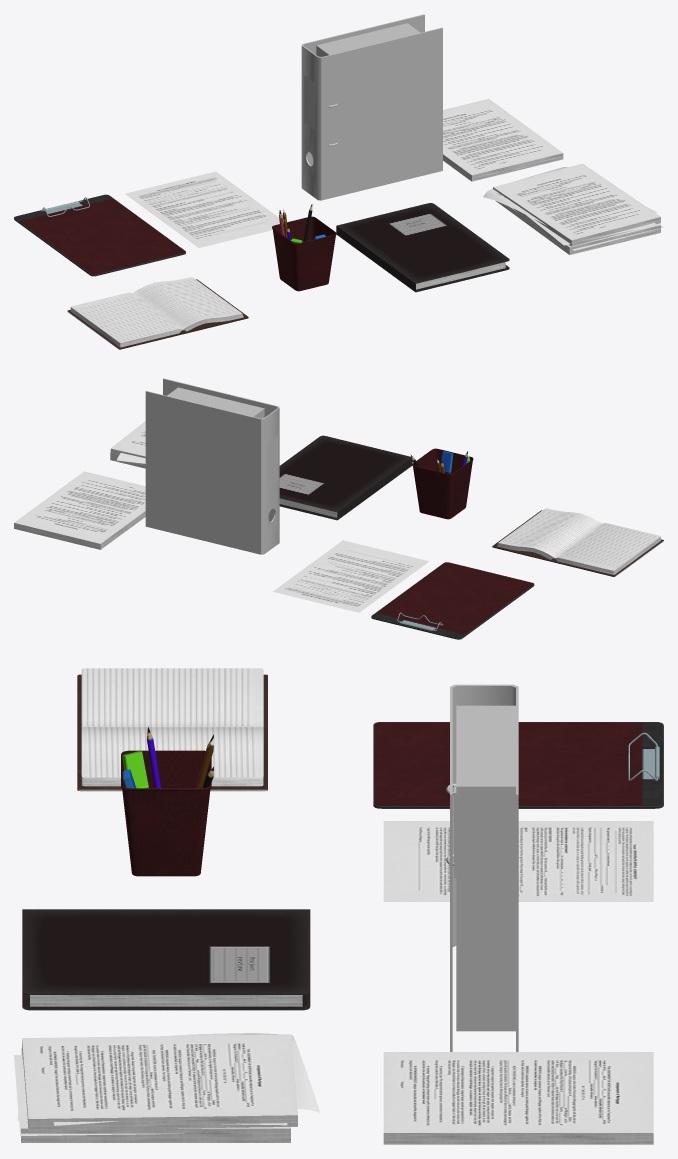
Rendered from Props_1.fbx.
The picture shows the model from 3 angles, top to bottom: view 1: azimuth 30°, elevation 25°; view 2: azimuth 150°, elevation 25°; view 3: azimuth 270°, elevation 25°; orthographic projection. The views are drawn at different scales.
Visible parts, largest first — view 1: RingBinder, PaperStack_A, Folder, PaperTablet, NotebookOpen, Document, Paper, PencilBox; view 2: RingBinder, Folder, PaperTablet, NotebookOpen, Paper, Document, PencilBox, PaperStack_A; view 3: PaperStack_A, Folder, Paper, RingBinder, NotebookOpen, PaperTablet, Document, PencilBox.
Boxes of the visible parts, x1,y1,x2,y2 form: RingBinder: [301, 14, 442, 200]; PaperStack_A: [483, 163, 663, 254]; Folder: [336, 203, 509, 292]; PaperTablet: [14, 194, 185, 276]; NotebookOpen: [67, 277, 248, 349]; Document: [125, 171, 283, 247]; Paper: [443, 99, 563, 181]; PencilBox: [272, 216, 336, 291]; RingBinder: [145, 378, 279, 554]; Folder: [279, 435, 412, 520]; PaperTablet: [371, 562, 534, 639]; NotebookOpen: [492, 508, 663, 576]; Paper: [14, 471, 145, 549]; Document: [273, 540, 428, 612]; PencilBox: [412, 448, 473, 519]; PaperStack_A: [110, 421, 145, 468]; PaperStack_A: [14, 1033, 320, 1142]; Folder: [22, 909, 310, 1010]; Paper: [383, 1052, 653, 1144]; RingBinder: [446, 684, 518, 1051]; NotebookOpen: [77, 668, 267, 791]; PaperTablet: [373, 722, 663, 808]; Document: [383, 821, 653, 901]; PencilBox: [121, 750, 211, 876].
Size of the model in its own units: 123 by 31.64 by 71.52.
